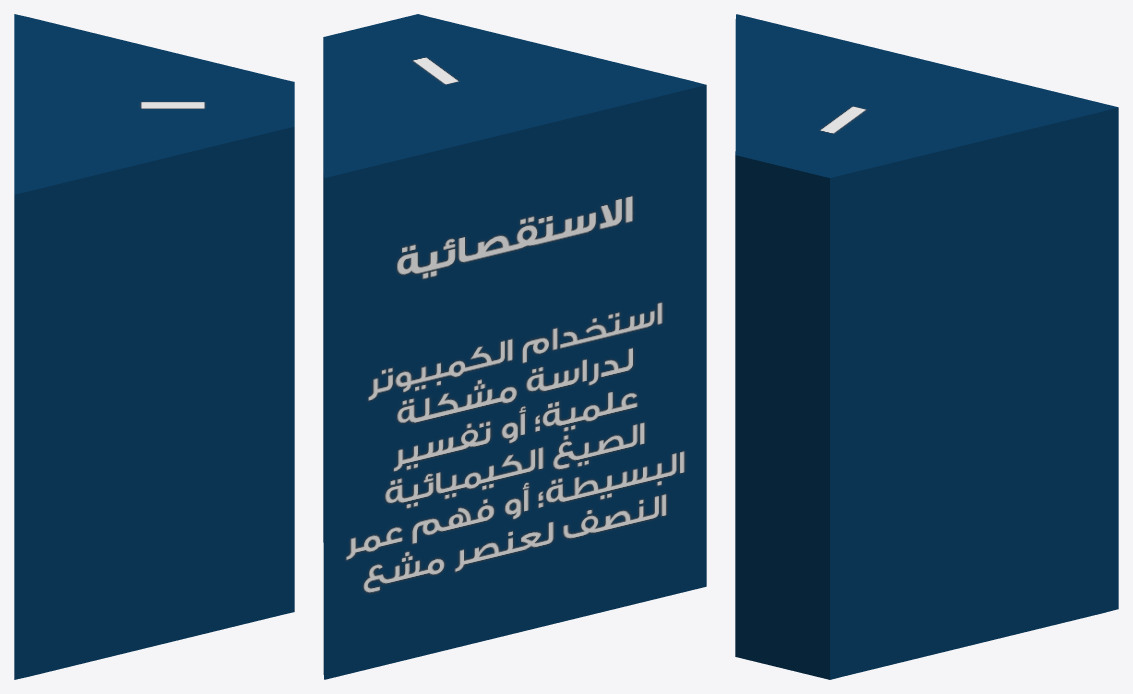
Rendered from imodel-ar.glb.
The picture shows the model from 3 angles, left to right: view 1: azimuth 30°, elevation 25°; view 2: azimuth 150°, elevation 25°; view 3: azimuth 270°, elevation 25°; orthographic projection. The views are drawn at different scales.
Visible parts, largest first — view 1: Object005; view 2: Object005; view 3: Object005.
Part boxes in pixels (x1,y1,x2,y2): Object005: (14, 14, 294, 679); Object005: (323, 14, 706, 679); Object005: (735, 14, 1118, 679).
Size of the model in its own units: 0.4373 by 0.6232 by 0.4315.
1 material, 1 textured.
